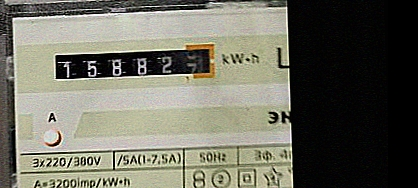1: (62, 59, 71, 77)
2: (161, 53, 173, 74)
5: (84, 58, 98, 77)
7: (185, 59, 197, 72)
8: (135, 54, 148, 75), (111, 56, 123, 76)
screen: (49, 41, 220, 86)
